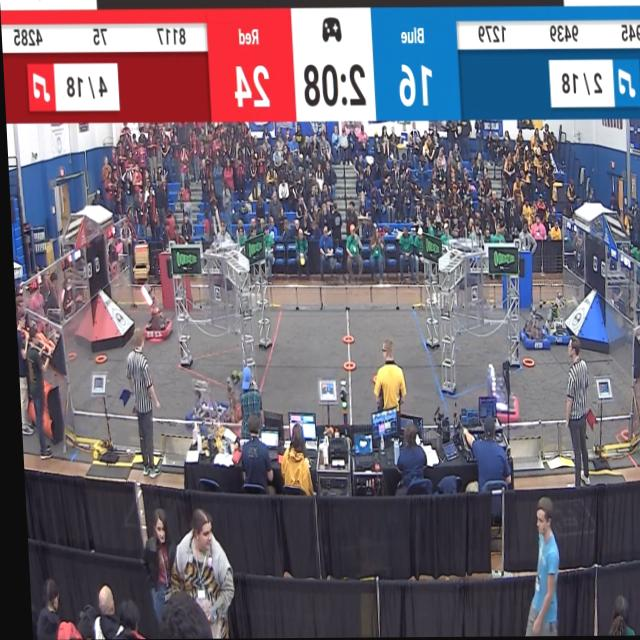Robot: (473, 356, 513, 427), (137, 284, 170, 347), (178, 375, 217, 427), (514, 305, 546, 356), (542, 296, 569, 352), (216, 372, 239, 429)
